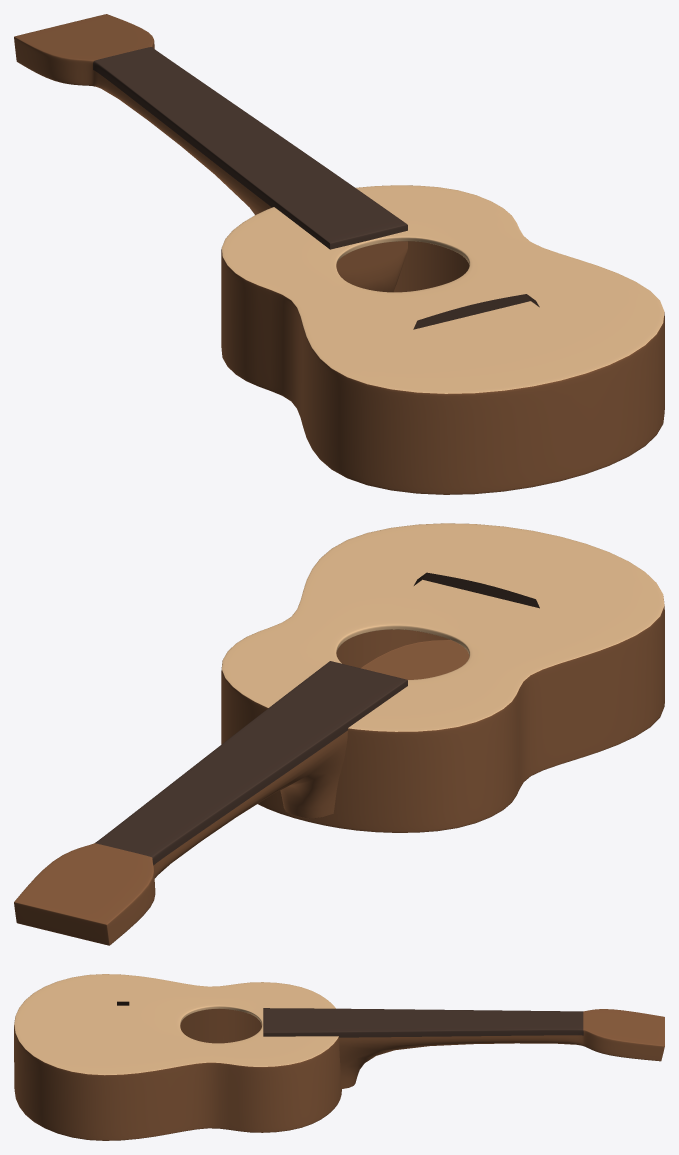
Rendered from guitar.gltf.
The picture shows the model from 3 angles, top to bottom: view 1: azimuth 30°, elevation 25°; view 2: azimuth 150°, elevation 25°; view 3: azimuth 270°, elevation 25°; orthographic projection. The views are drawn at different scales.
Visible parts, largest first — view 1: Guitar; view 2: Guitar; view 3: Guitar.
Part boxes in pixels (<box>): Guitar: <box>14,14,664,494</box>; Guitar: <box>14,523,664,945</box>; Guitar: <box>14,974,664,1140</box>.
Size of the model in its own units: 0.3647 by 0.1229 by 0.9902.
